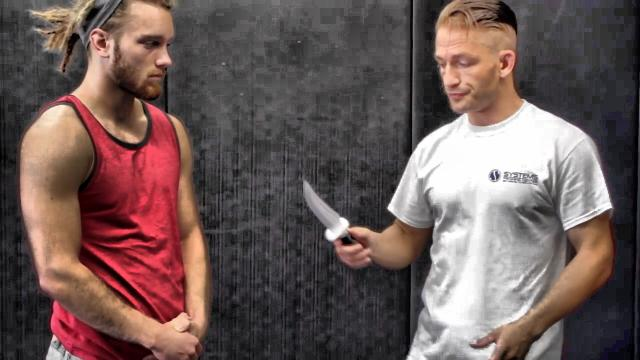knife: (296, 170, 372, 267)
